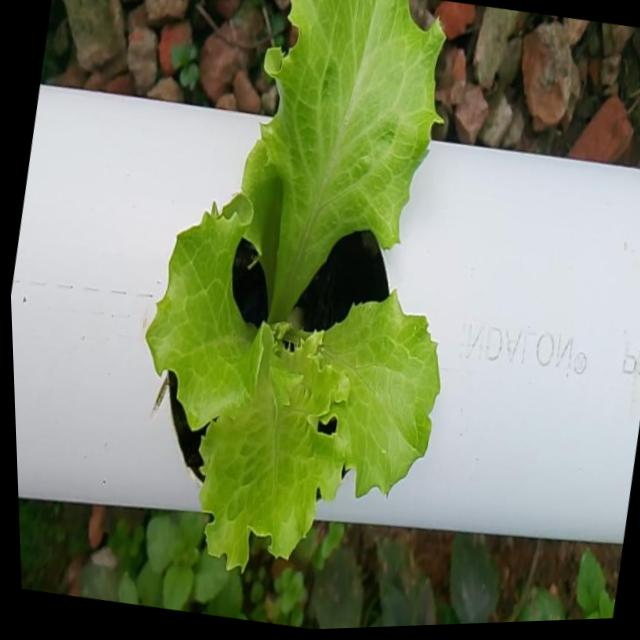Baby: (144, 0, 442, 582)
